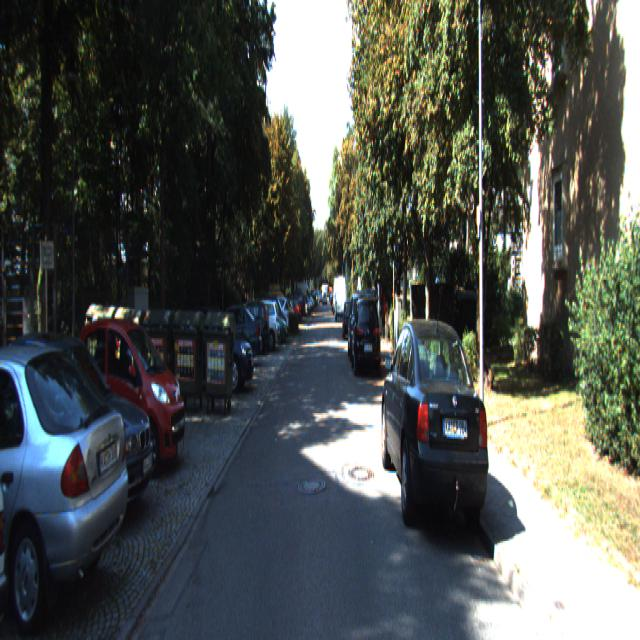Car: (0, 333, 132, 635), (0, 335, 160, 534), (379, 312, 489, 541), (66, 317, 186, 483), (182, 306, 253, 397), (205, 306, 262, 370), (227, 302, 270, 358), (350, 300, 380, 378), (348, 294, 372, 365), (335, 276, 346, 318)
